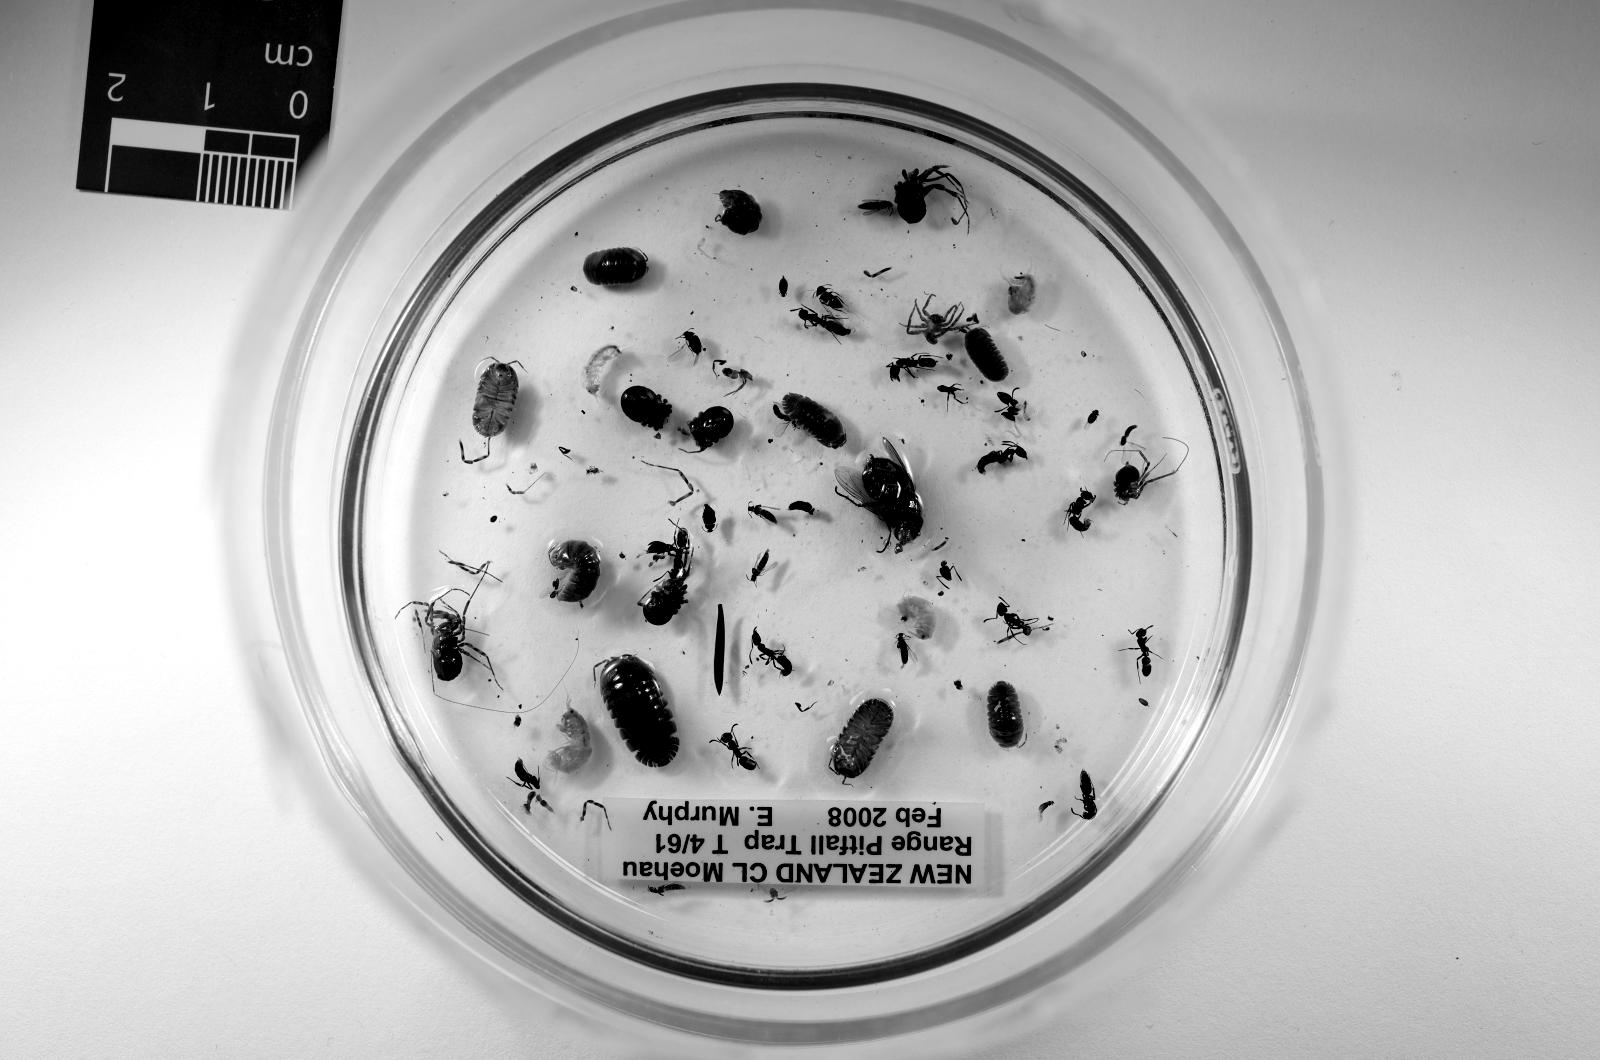amphipoda: (547, 708, 591, 773), (581, 345, 622, 394), (897, 596, 938, 640), (1003, 273, 1038, 314)
araneae: (906, 301, 966, 345), (722, 366, 753, 394)
coleoptera: (1072, 770, 1097, 820), (750, 550, 778, 581), (816, 286, 844, 311), (747, 506, 778, 525), (681, 332, 703, 357), (856, 199, 894, 211), (897, 634, 909, 668), (703, 503, 716, 534), (647, 540, 672, 556), (647, 885, 688, 894), (1038, 801, 1053, 817), (778, 276, 788, 298), (1088, 410, 1100, 425)
diptera: (834, 438, 925, 553)
formicidae: (750, 630, 794, 677), (709, 727, 756, 770), (997, 599, 1038, 643), (978, 441, 1028, 475), (794, 307, 850, 335), (888, 354, 938, 382), (669, 528, 691, 581), (1075, 770, 1097, 820), (1069, 491, 1094, 531), (1134, 627, 1153, 677)
isopoda: (597, 655, 678, 767), (828, 699, 894, 779), (781, 394, 847, 450), (472, 363, 519, 438), (550, 540, 600, 606), (962, 323, 1009, 382), (584, 248, 647, 286), (988, 680, 1022, 748), (716, 189, 762, 236)
opiliones: (409, 593, 497, 683), (1112, 438, 1181, 503), (894, 165, 969, 224), (619, 385, 672, 432), (641, 578, 688, 627), (681, 407, 734, 450)
